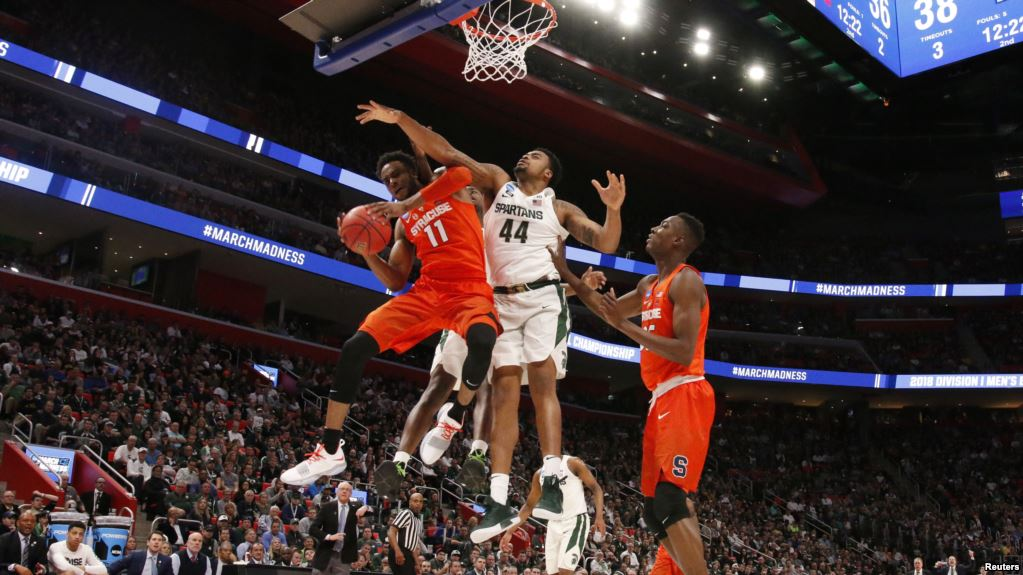breakthrough: (310, 136, 495, 484)
defense: (391, 62, 620, 536)
